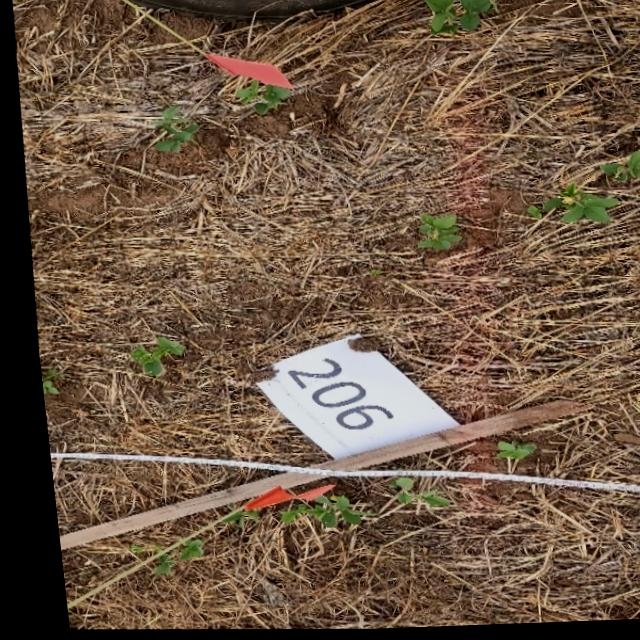soy_plant: (424, 0, 514, 36), (536, 188, 612, 227), (268, 497, 359, 529), (122, 337, 175, 377), (151, 107, 196, 153), (234, 81, 286, 116), (377, 480, 437, 509), (411, 217, 455, 252), (594, 155, 640, 187), (486, 444, 523, 463), (211, 511, 245, 529), (164, 539, 189, 562), (139, 556, 160, 573), (627, 400, 640, 418), (522, 209, 535, 223)
